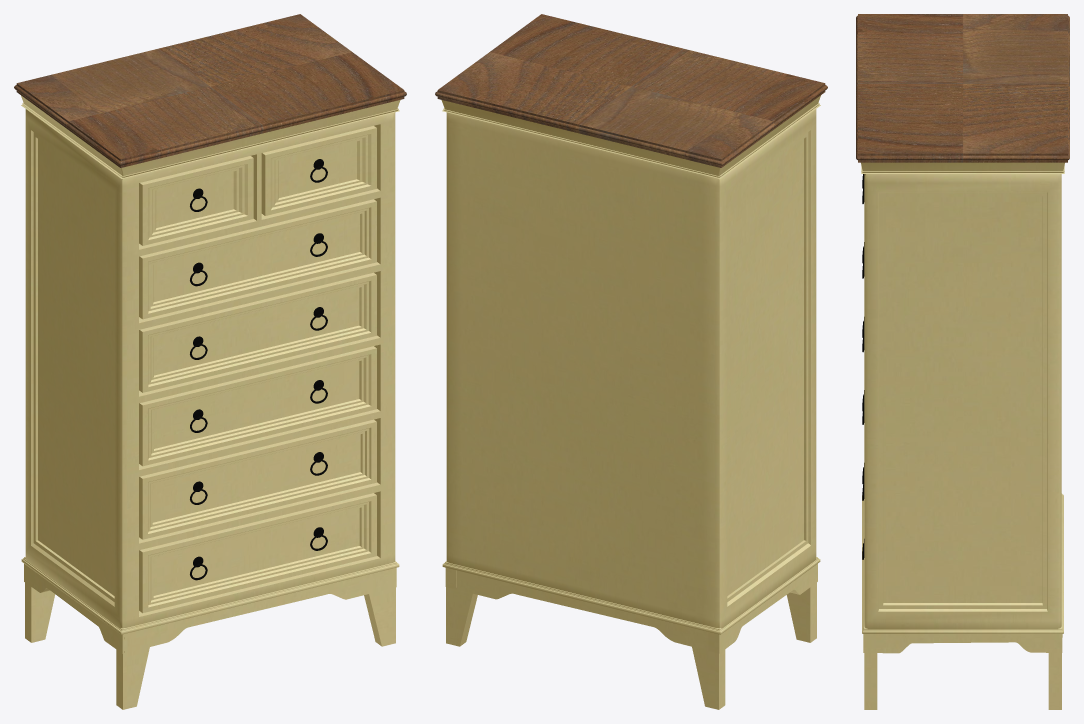
The picture shows the model from 3 angles, left to right: view 1: azimuth 30°, elevation 25°; view 2: azimuth 150°, elevation 25°; view 3: azimuth 270°, elevation 25°; orthographic projection.
Visible parts, largest first — view 1: Cube, Cube_1, Cube_2_2, Extrude, Cube_5, Cube_2, Cube_7, Cube_8, Extrude_3, Cube_3; view 2: Cube, Cube_1, Cube_2_2, Extrude_1, Cube_8, Extrude_3, Cube_2, Cube_6, Cube_5, Cube_3; view 3: Cube, Cube_1, Extrude_2, Cube_2_2, Cube_2, Cube_7, Cube_6, Cube_3, Cube_10.
Boxes of the visible parts, x1,y1,x2,y2 form: Cube: [25, 109, 395, 628]; Cube_1: [14, 14, 406, 167]; Cube_2_2: [21, 95, 400, 178]; Extrude: [124, 568, 395, 653]; Cube_5: [116, 647, 149, 709]; Cube_2: [21, 559, 399, 634]; Cube_7: [364, 587, 395, 646]; Cube_8: [25, 582, 55, 642]; Extrude_3: [24, 564, 124, 653]; Cube_3: [23, 558, 397, 631]; Cube: [446, 109, 816, 628]; Cube_1: [435, 14, 827, 167]; Cube_2_2: [441, 95, 820, 178]; Extrude_1: [457, 570, 708, 650]; Cube_8: [692, 647, 725, 709]; Extrude_3: [708, 563, 817, 653]; Cube_2: [442, 559, 820, 634]; Cube_6: [446, 587, 477, 646]; Cube_5: [787, 582, 816, 642]; Cube_3: [444, 558, 818, 631]; Cube: [864, 174, 1061, 629]; Cube_1: [856, 14, 1069, 162]; Extrude_2: [863, 634, 1062, 653]; Cube_2_2: [861, 162, 1064, 173]; Cube_2: [862, 494, 1063, 633]; Cube_7: [864, 653, 877, 709]; Cube_6: [1048, 653, 1061, 709]; Cube_3: [863, 494, 1062, 630]; Cube_10: [863, 493, 1062, 629].
Size of the model in its own units: 0.4803 by 0.8817 by 0.3058.
Materials: 3 (2 with a texture image).
